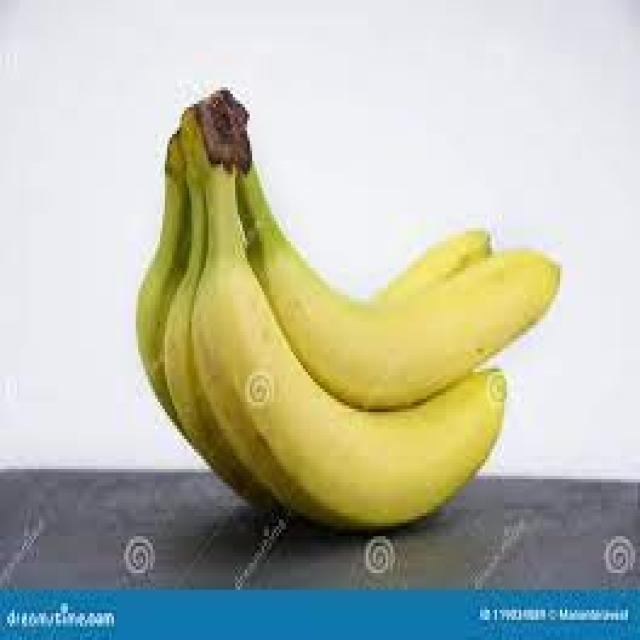Banana: (191, 168, 504, 528), (238, 164, 560, 412)
